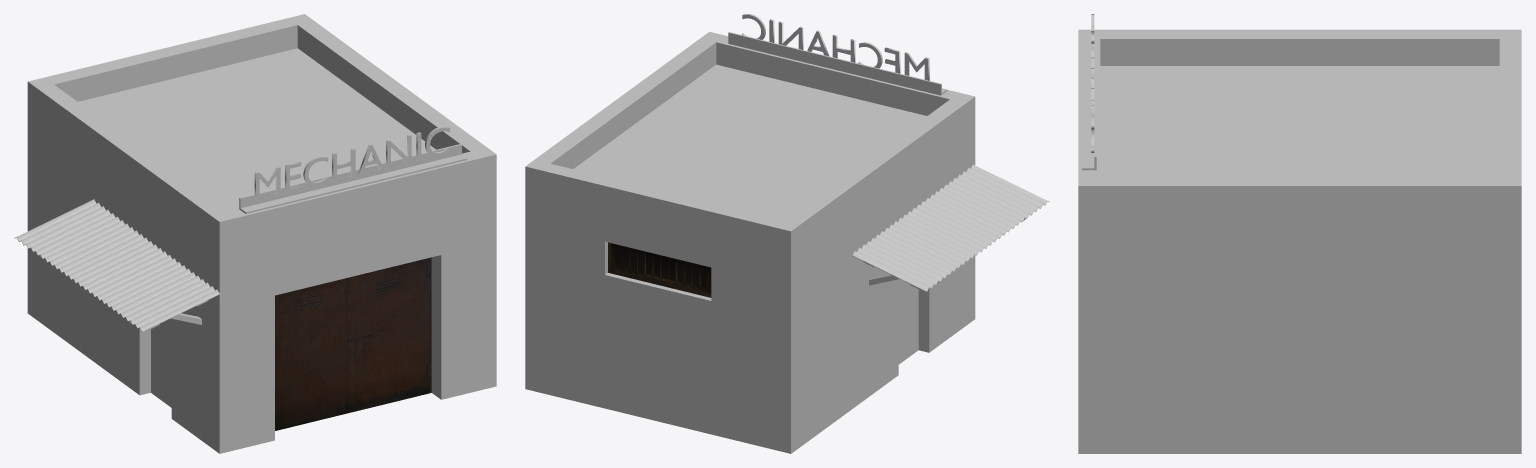
Rendered from garage_hl_1.fbx.
3 views of the same model, side by side, from view 1: azimuth 30°, elevation 25°; view 2: azimuth 150°, elevation 25°; view 3: azimuth 270°, elevation 25° (orthographic). The views are drawn at different scales.
Parts seen in each view (by area): view 1: garage_hl_1; view 2: garage_hl_1; view 3: garage_hl_1.
Part boxes in pixels (x1,y1,x2,y2): garage_hl_1: [14, 14, 496, 453]; garage_hl_1: [525, 14, 1049, 453]; garage_hl_1: [1078, 14, 1521, 453].
Size of the model in its own units: 6.4 by 6 by 4.59.
